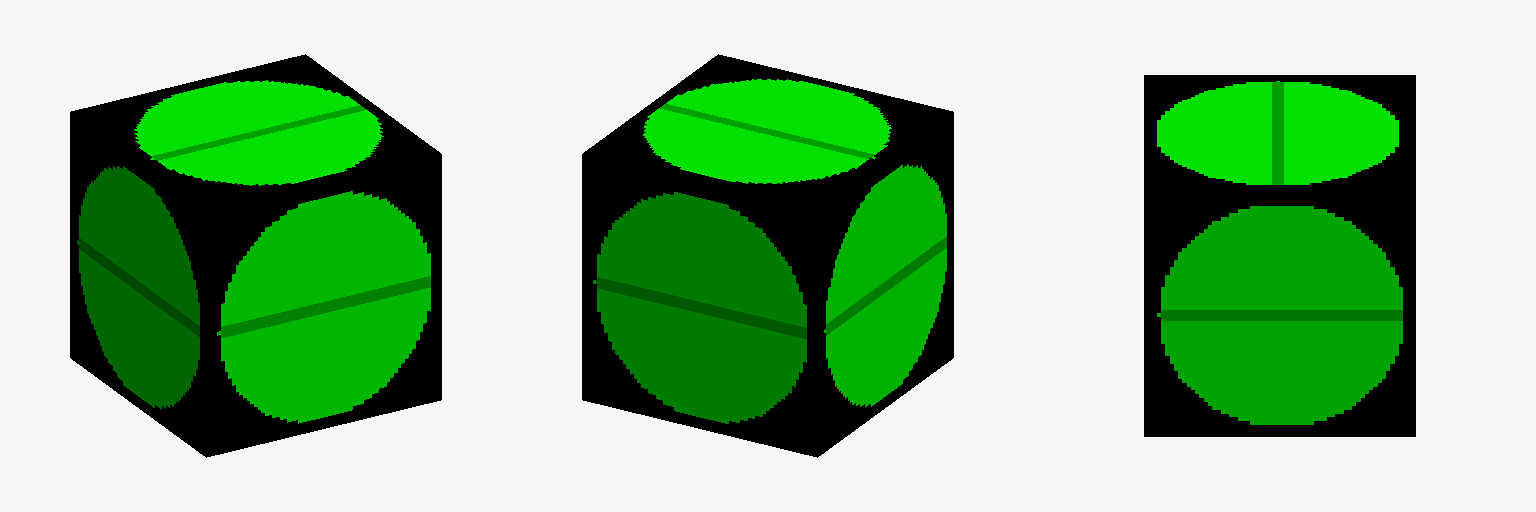
3 renders of one model, left to right at view 1: azimuth 30°, elevation 25°; view 2: azimuth 150°, elevation 25°; view 3: azimuth 270°, elevation 25°, orthographic.
Parts seen in each view (by area): view 1: lettuce-chopped; view 2: lettuce-chopped; view 3: lettuce-chopped.
Part boxes in pixels (bbox=[...]): lettuce-chopped: bbox=[70, 54, 441, 457]; lettuce-chopped: bbox=[582, 54, 953, 457]; lettuce-chopped: bbox=[1144, 75, 1415, 436].
Bounding box in the file's own units: 1 × 1 × 1.
1 materials, 1 textured.